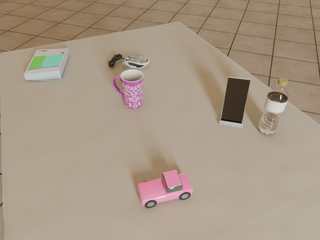book: (24, 48, 69, 80)
bottle: (258, 78, 289, 135)
cup: (113, 70, 144, 109)
mouse: (123, 56, 150, 68)
phone: (221, 77, 250, 123)
toy_car: (138, 170, 193, 208)
